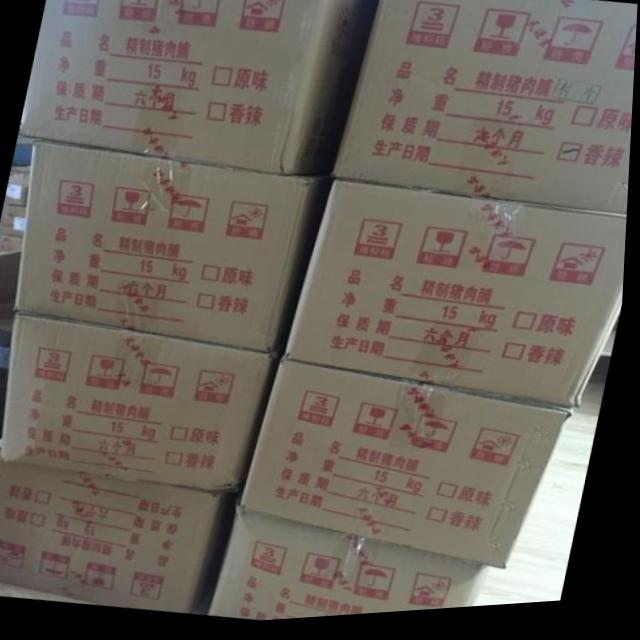box: (286, 187, 629, 418), (243, 364, 580, 576), (332, 0, 638, 224), (17, 139, 315, 356), (20, 0, 365, 180), (4, 312, 277, 497), (0, 442, 228, 617), (214, 512, 496, 625)
